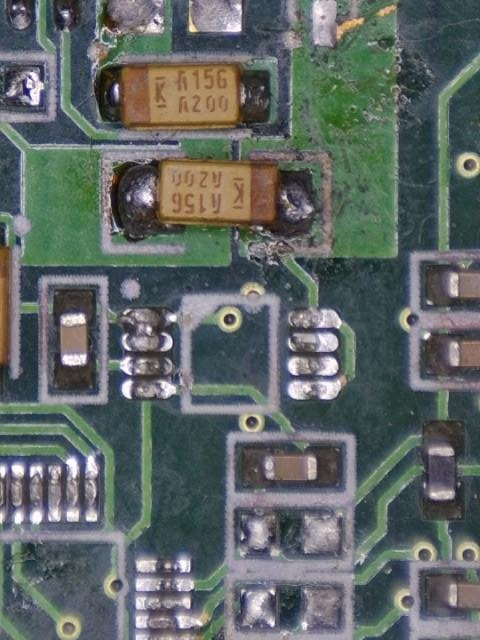pcb_defect: (116, 308, 177, 352)
